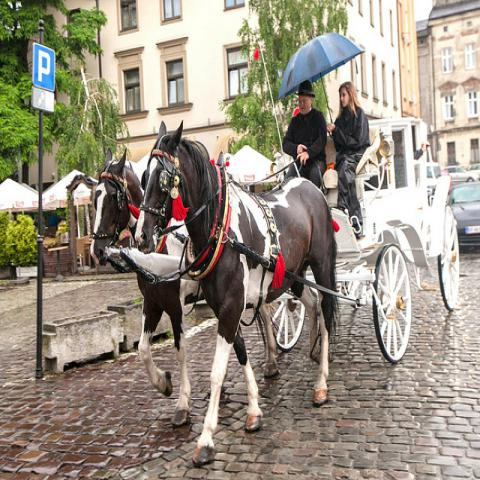car: (447, 181, 479, 250), (440, 166, 480, 195), (426, 161, 440, 206), (467, 162, 479, 178)
